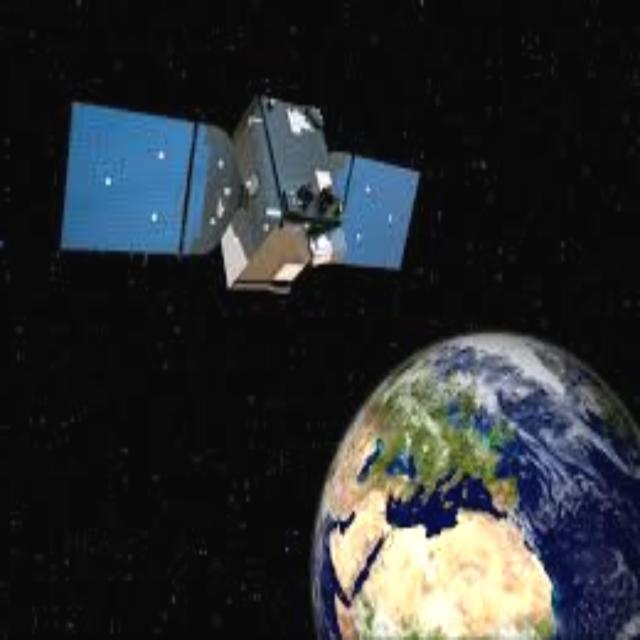medium_debris: (52, 91, 423, 302)
